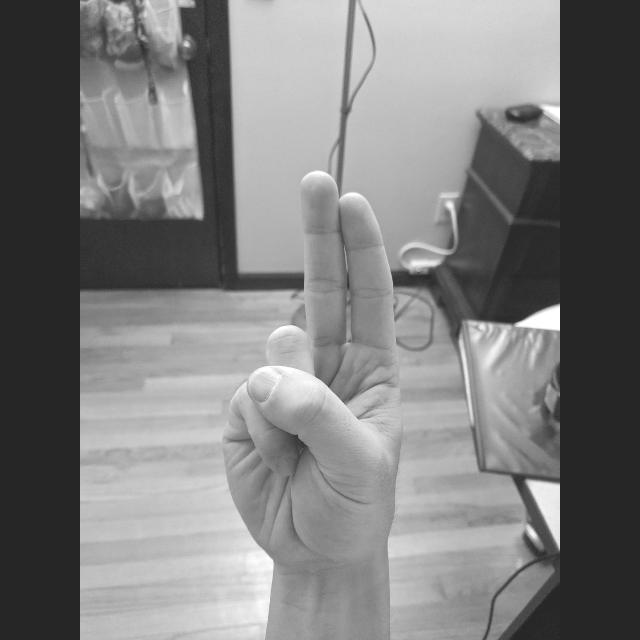U: (218, 165, 410, 568)
